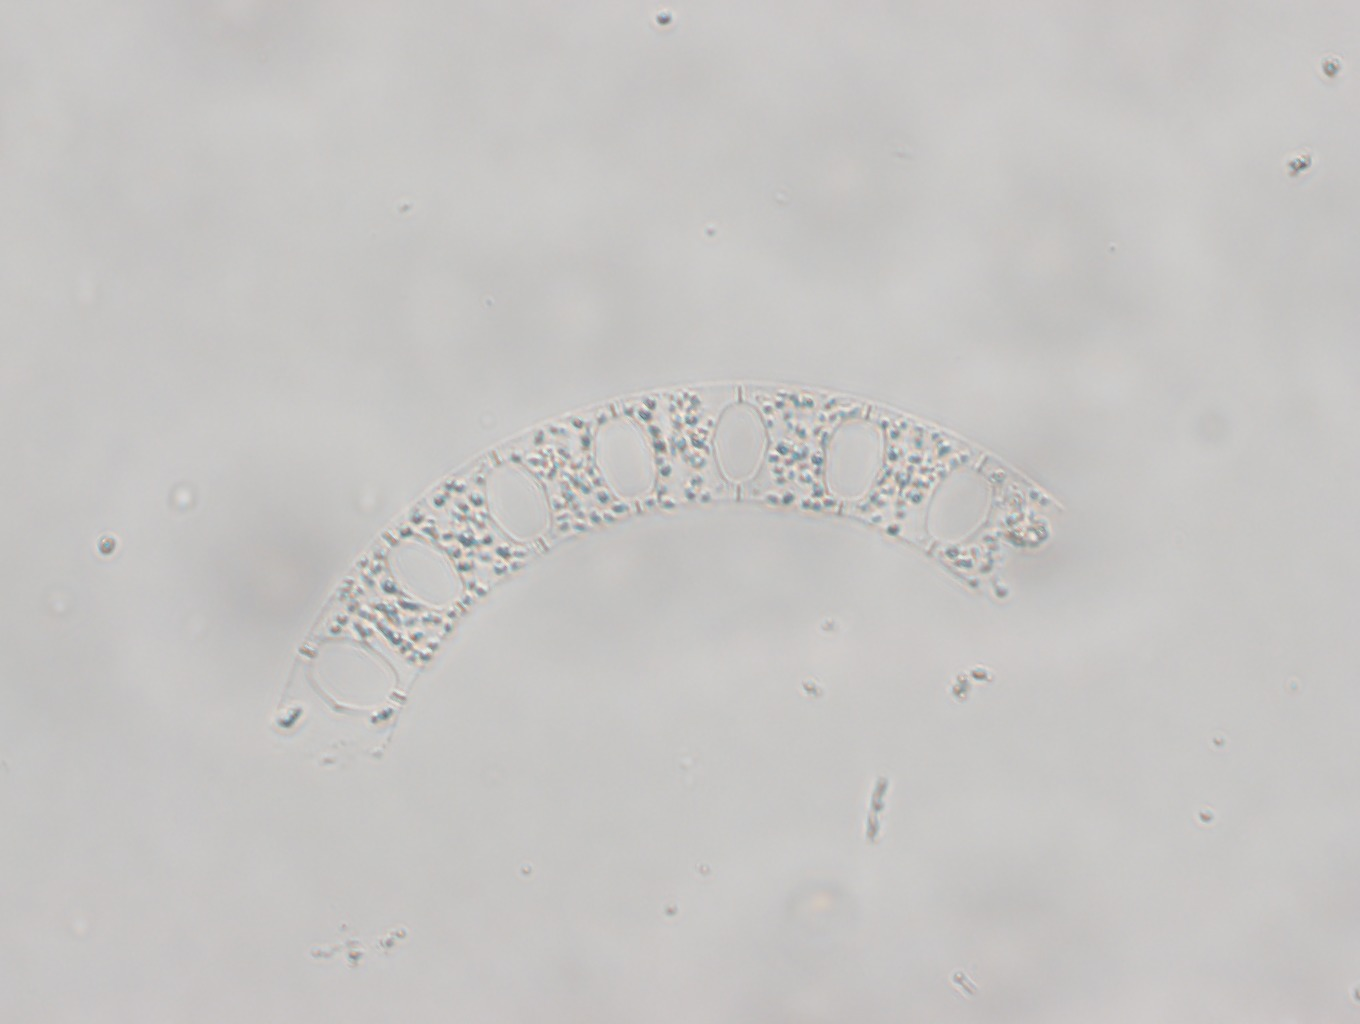eucampia: (276, 381, 1063, 755)
